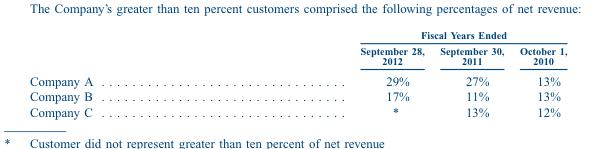table: (28, 28, 566, 118)
table column: (226, 28, 431, 118), (28, 28, 226, 118), (431, 28, 511, 118), (511, 28, 566, 118)
table column header: (28, 28, 566, 69)
table row: (28, 42, 566, 69), (28, 69, 566, 87), (28, 87, 566, 103), (28, 103, 566, 118), (28, 28, 566, 42)
table spanning cell: (226, 28, 566, 42)
